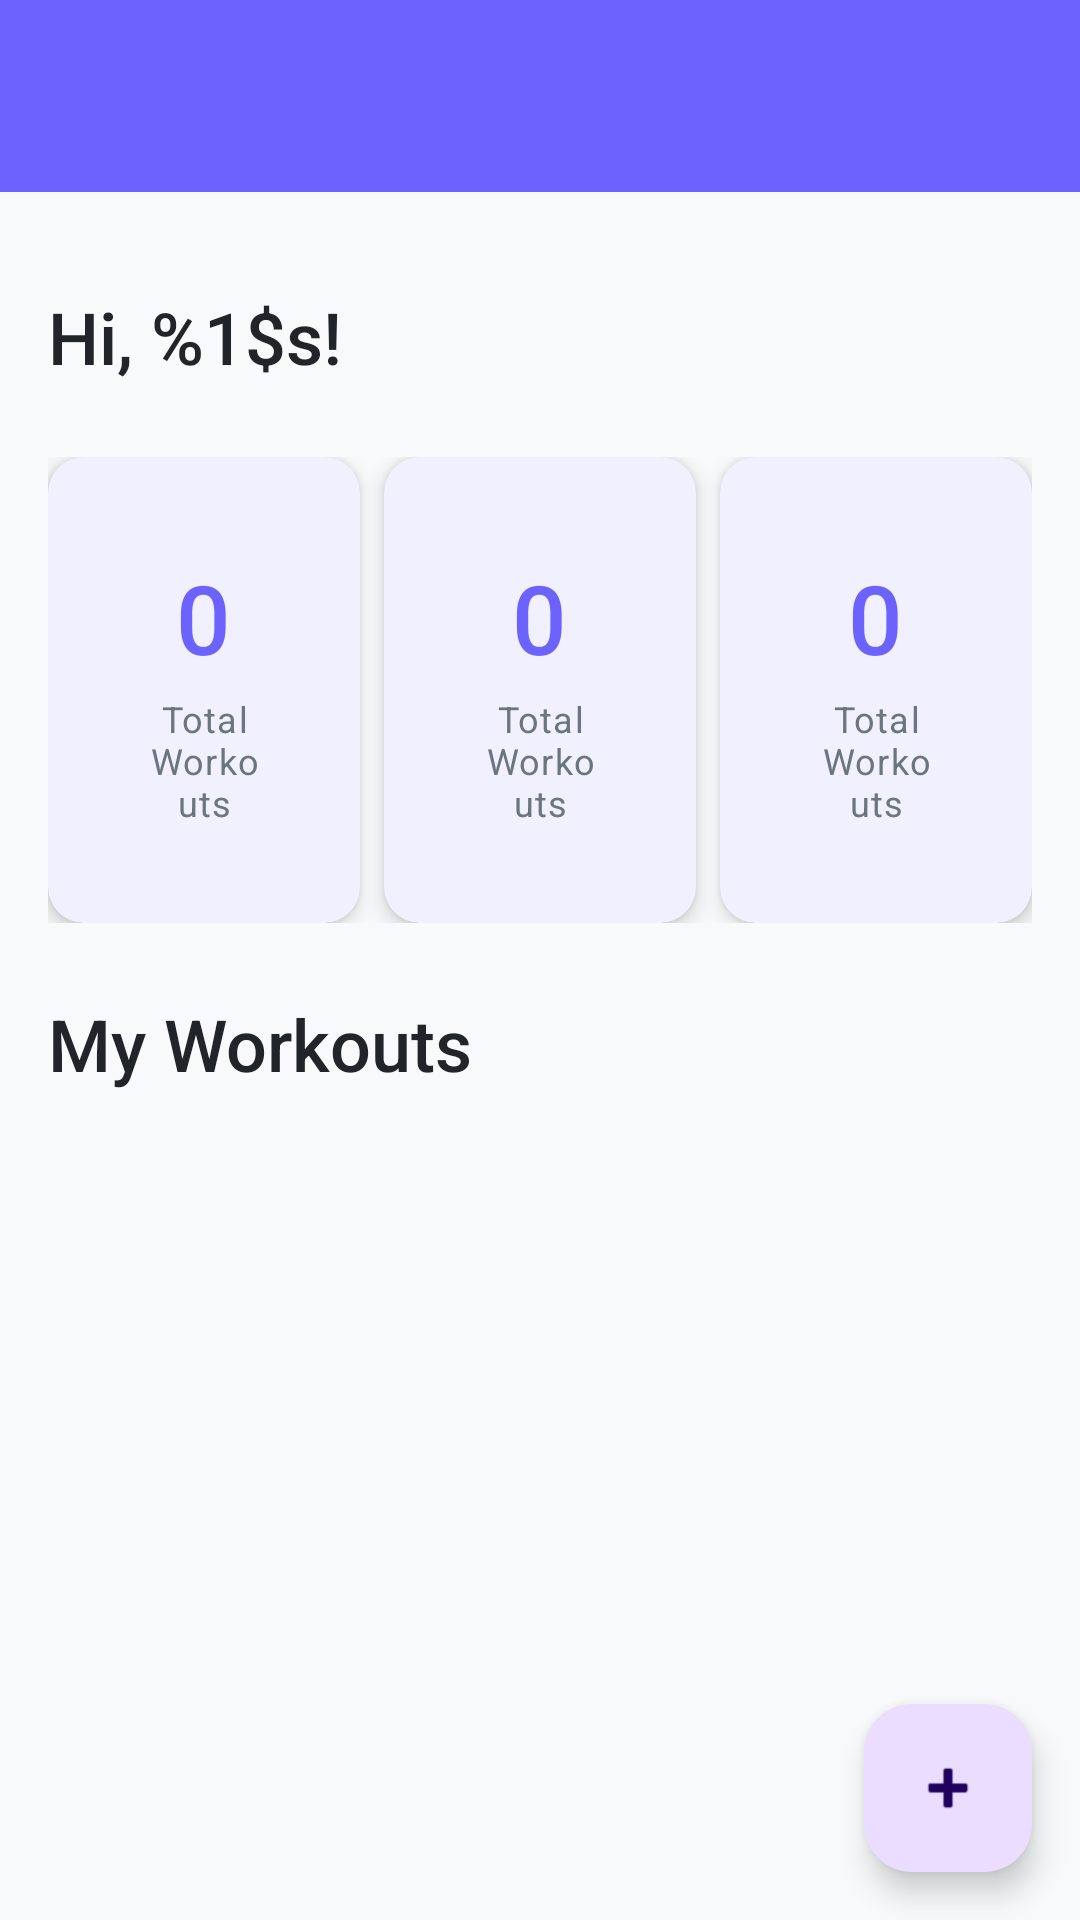

Locate icon controls on the screen. Image size 1080x1920, boxes as [x1, y1, x2, y2].
Add New Workout: [864, 1704, 1032, 1872]
